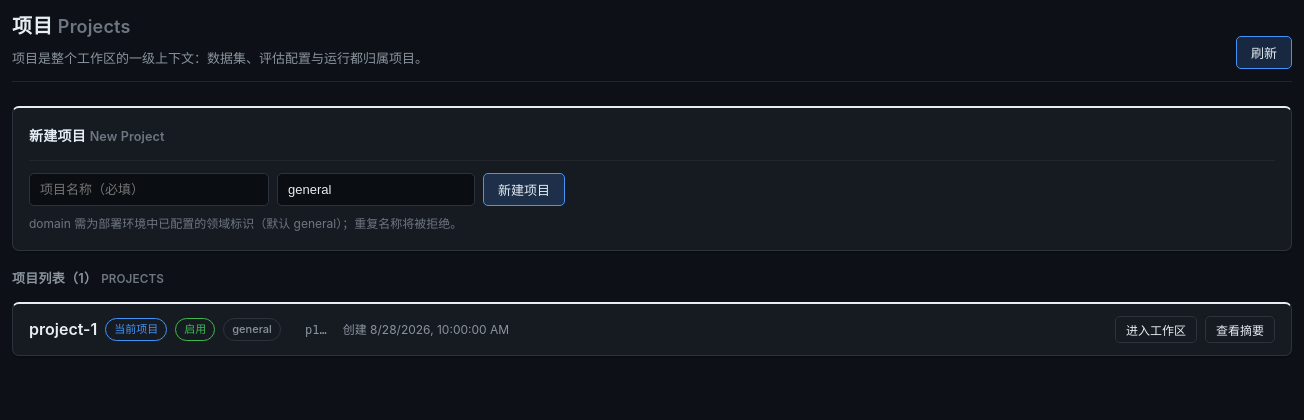
Test case: ProjectsPage (Project Workspace) › 重复名称显示后端错误（不伪造成功）
Type "dup" into the field with test id "project-name-input" at (149, 189), box [29,173,269,206]
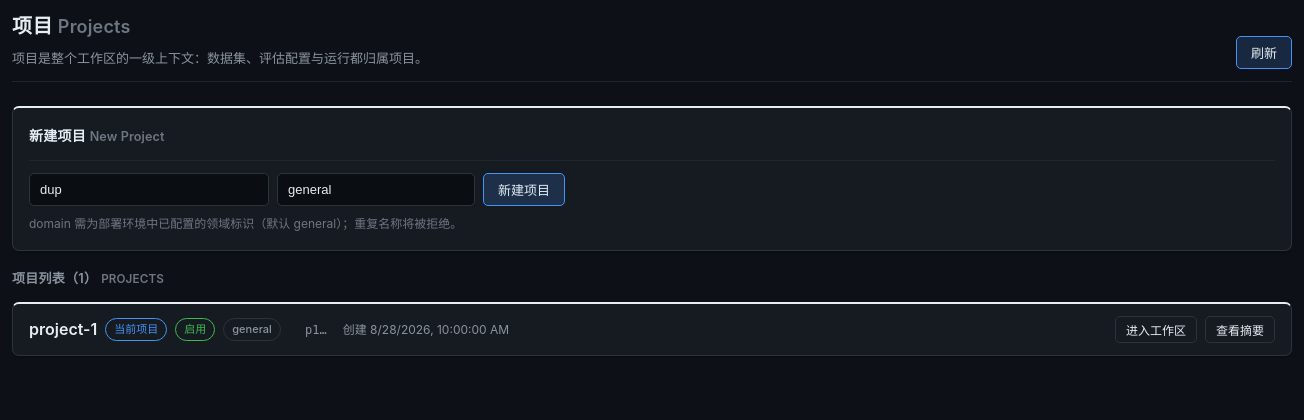
Click the button with test id "project-create-submit" at (524, 189), box [483,173,565,206]
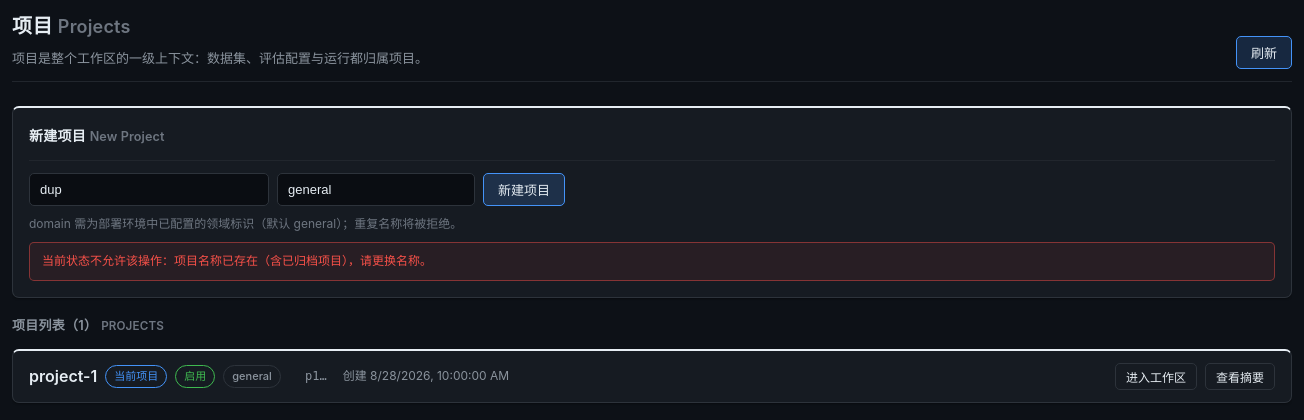
Now the message with test id "project-create-error" shows "项目名称已存在", box [42,253,432,268]
